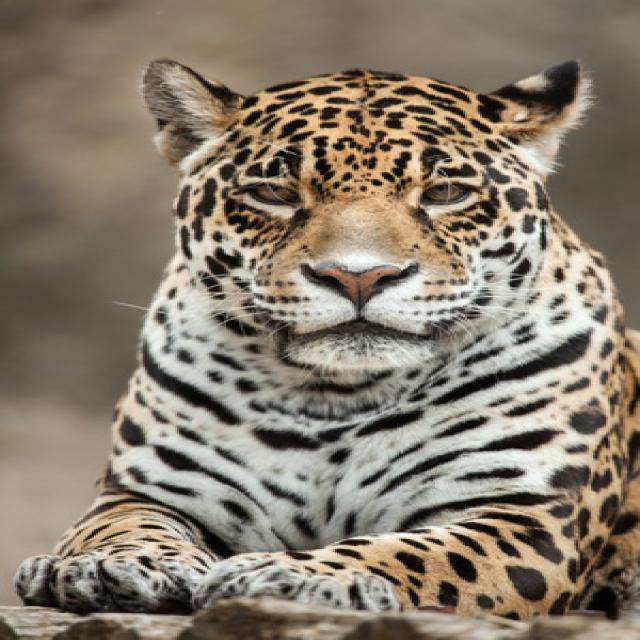Jaguar: (57, 48, 640, 624)
